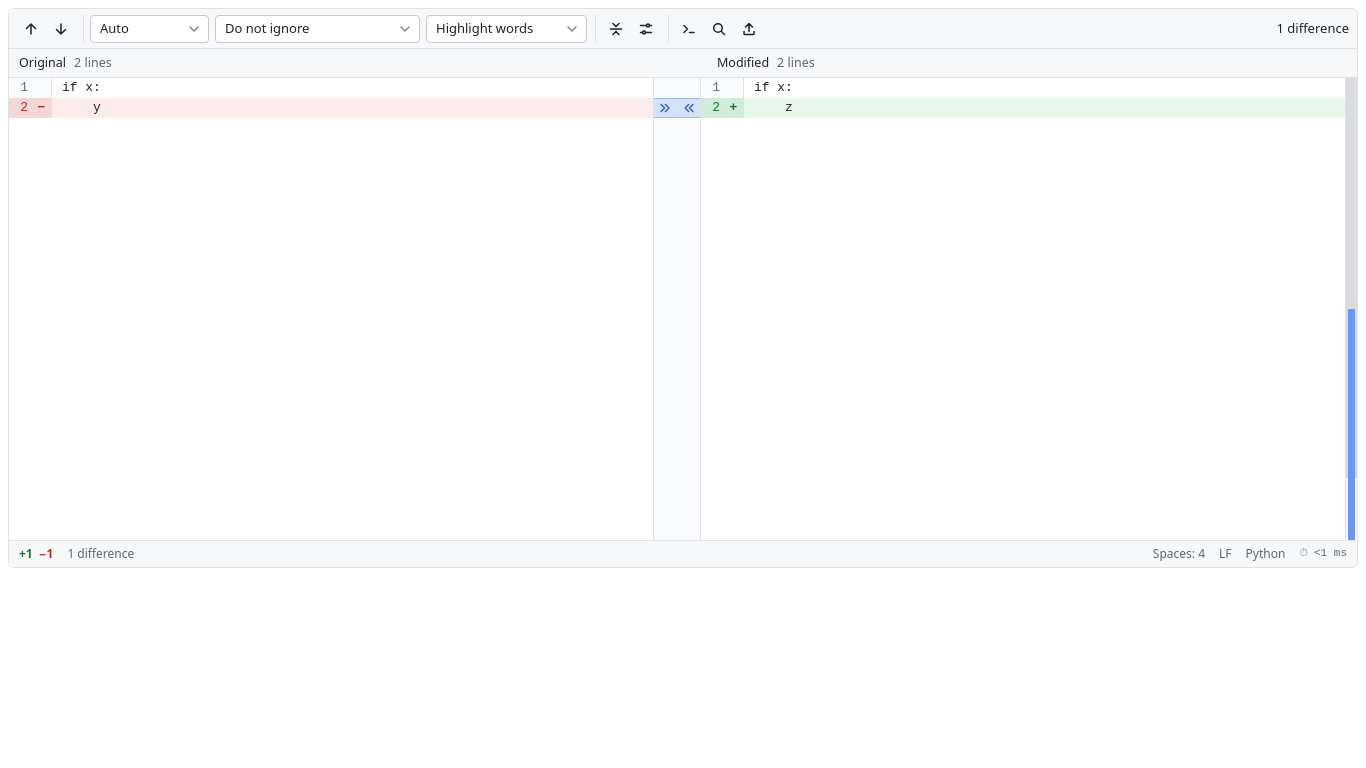
<DiffViewer> line links and status bar › shows indentation, comparison time and a clickable language
expect the element with class "m2d-status" shows "Spaces: 4": met, box [1153,545,1205,562]
expect the text with class "m2d-status-time" shows "ms": met, box [1299,546,1347,562]
Click the button "Python".
click(1266, 554)  # box [1240,544,1291,564]
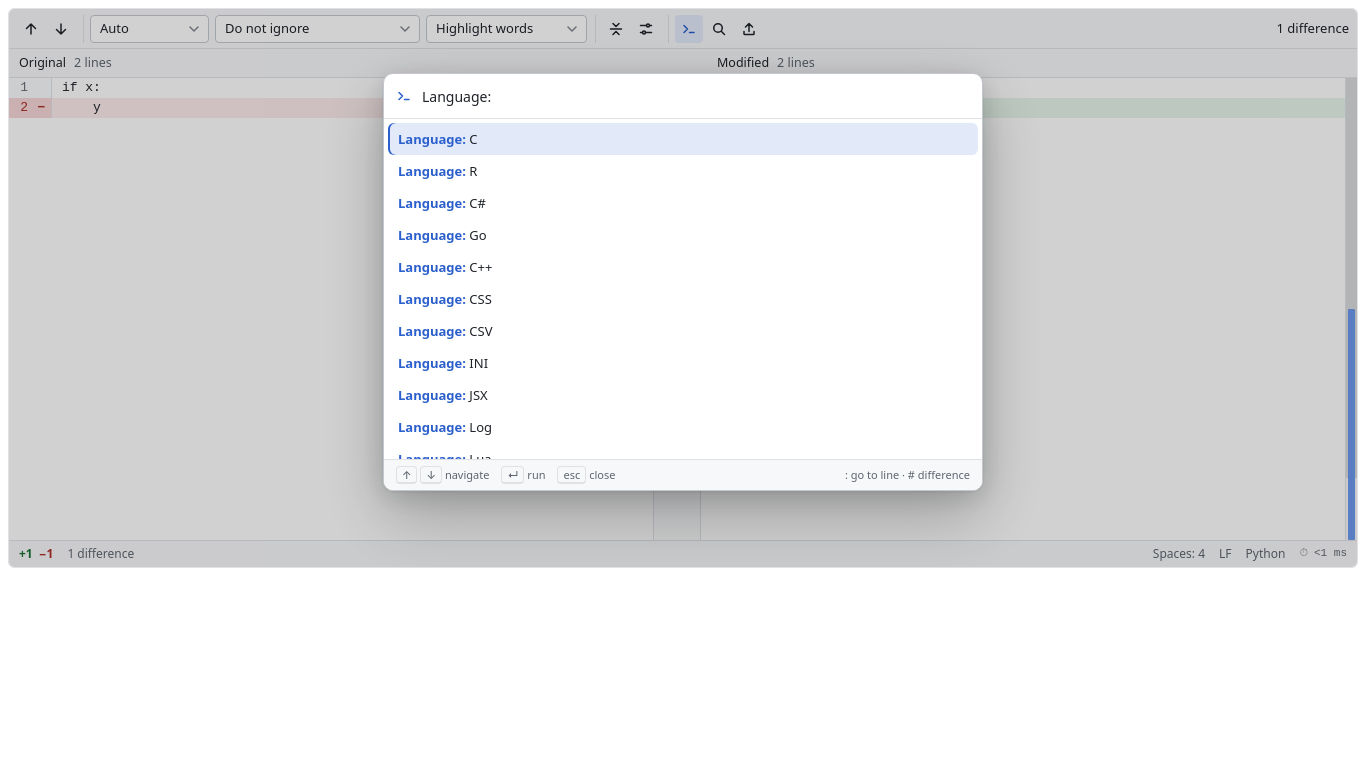
expect the dropdown named "command" holds "Language: ": met, box [420,74,970,118]
